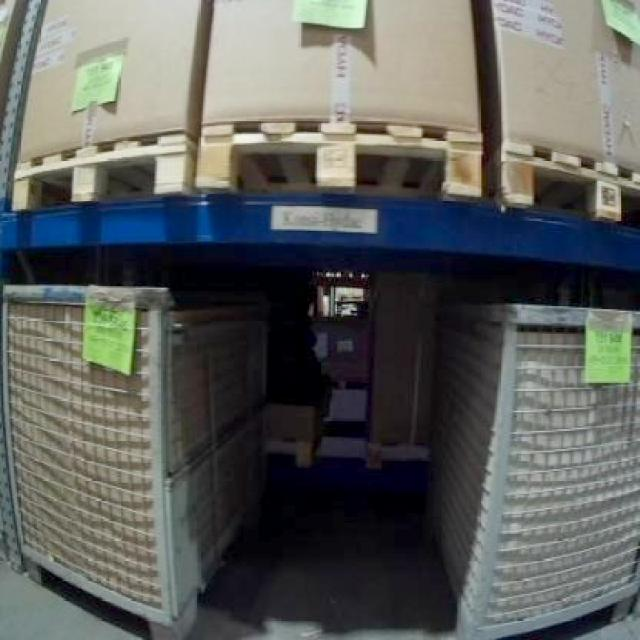pallets: (3, 285, 262, 637), (431, 303, 637, 637)
